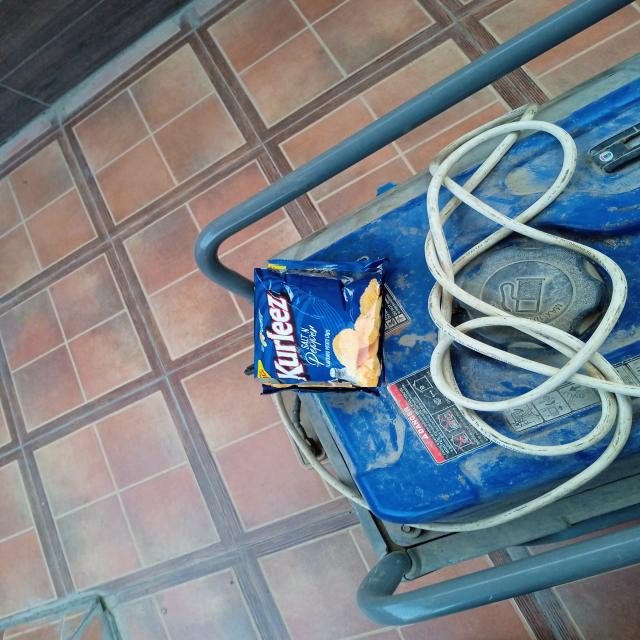Plastic: (258, 264, 382, 387)
